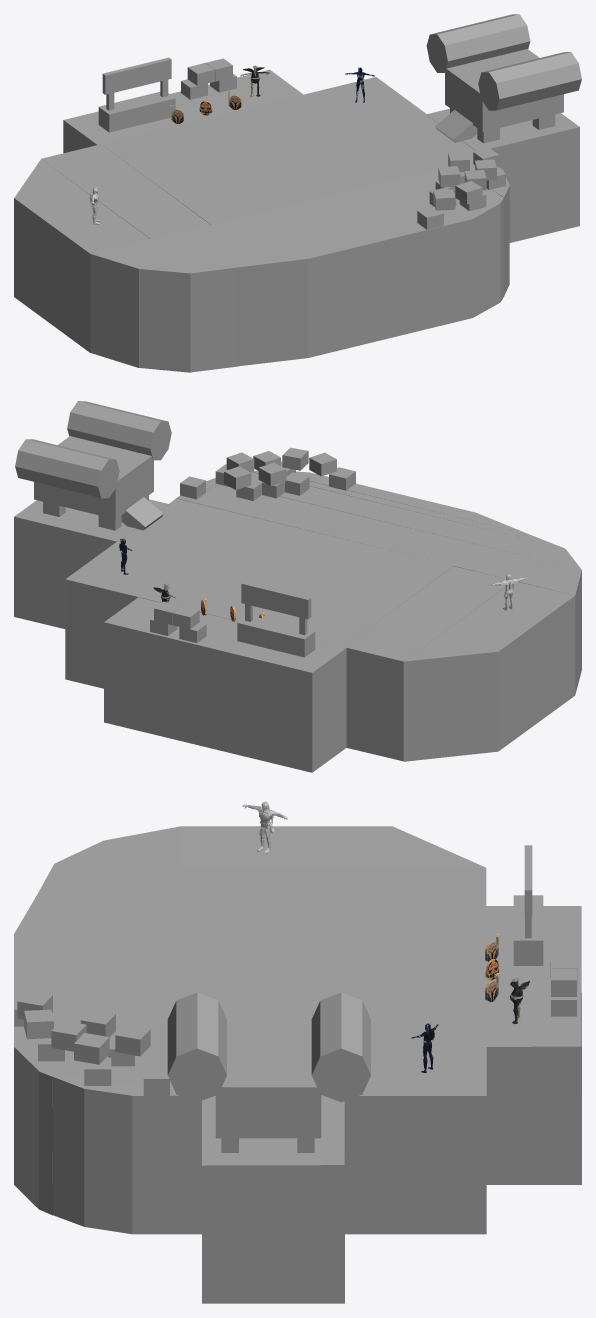
File: Post_Boss.fbx
3 views of the same model, one above another, from view 1: azimuth 30°, elevation 25°; view 2: azimuth 150°, elevation 25°; view 3: azimuth 270°, elevation 25° (orthographic). The views are drawn at different scales.
Visible parts, largest first — view 1: Floor248, Floor255, Floor249, Floor246, Floor252, Floor244, Floor254, Floor247, Floor245, Razor_Crest4, Razor_Crest3, Razor_Crest5 (+7 smaller); view 2: Floor248, Floor245, Floor246, Floor247, Floor249, Floor244, Floor252, Razor_Crest4, Razor_Crest5, Razor_Crest3, Wattos1, Floor255 (+11 smaller); view 3: Floor248, Floor244, Floor245, Floor249, Floor247, Floor246, Razor_Crest4, Floor252, Floor251, Floor250, Floor255, Razor_Crest5 (+15 smaller).
Part boxes in pixels (x1,y1,x2,y2): Floor248: (103,77,475,224); Floor255: (237,203,500,366); Floor249: (90,161,474,367); Floor246: (14,159,149,352); Floor252: (139,189,502,372); Floor244: (426,108,579,242); Floor254: (190,197,504,372); Floor247: (41,145,209,238); Floor245: (63,69,302,153); Razor_Crest4: (445,49,563,131); Razor_Crest3: (478,52,581,110); Razor_Crest5: (426,14,530,72); Floor248: (65,498,453,688); Floor245: (104,597,347,772); Floor246: (403,582,575,761); Floor247: (345,566,506,761); Floor249: (191,484,581,694); Floor244: (14,499,169,628); Floor252: (251,472,581,569); Razor_Crest4: (34,436,153,519); Razor_Crest5: (15,439,119,498); Razor_Crest3: (67,401,171,460); Wattos1: (237,616,315,657); Floor255: (296,471,527,533); Floor248: (180,908,486,1234); Floor244: (202,1095,344,1303); Floor245: (481,906,581,1184); Floor249: (103,826,180,1085); Floor247: (180,867,486,908); Floor246: (180,826,485,867); Razor_Crest4: (215,1032,321,1138); Floor252: (52,841,103,1184); Floor251: (84,1085,132,1234); Floor250: (132,1085,180,1234); Floor255: (14,892,38,1208); Razor_Crest5: (311,992,370,1102).
Bounding box in the file's own units: 27 × 9.22 × 19.14.
